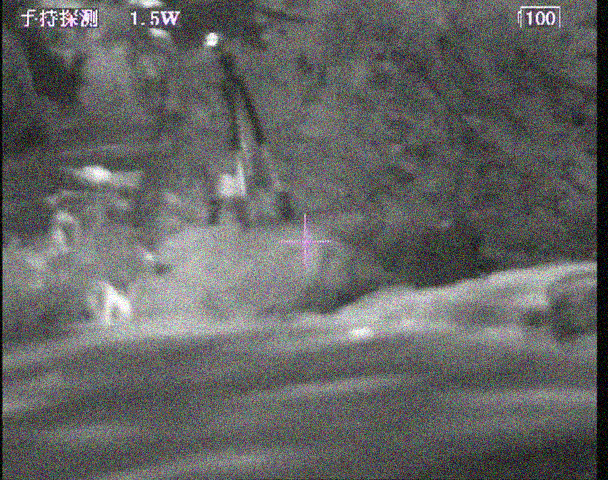my: (206, 31, 219, 47)
